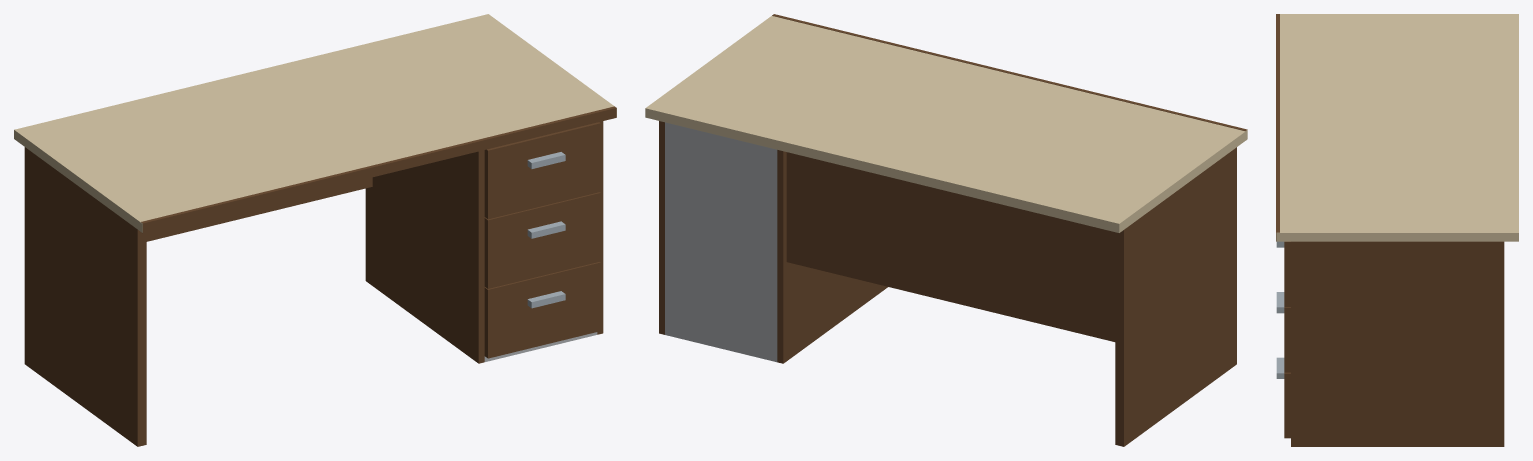
File: GO_Desk_Wood_01.glb
3 views of the same model, side by side, from view 1: azimuth 30°, elevation 25°; view 2: azimuth 150°, elevation 25°; view 3: azimuth 270°, elevation 25° (orthographic). The views are drawn at different scales.
Visible parts, largest first — view 1: GO_Desk_Wood_01, Drawer3, Drawer1, Drawer2; view 2: GO_Desk_Wood_01; view 3: GO_Desk_Wood_01, Drawer1, Drawer2, Drawer3.
Part boxes in pixels (box(x1,y1,x2,y2)): GO_Desk_Wood_01: box(14, 14, 616, 446); Drawer3: box(484, 122, 600, 219); Drawer1: box(484, 262, 600, 358); Drawer2: box(484, 192, 600, 288); GO_Desk_Wood_01: box(645, 14, 1247, 446); GO_Desk_Wood_01: box(1276, 14, 1518, 446); Drawer1: box(1276, 357, 1290, 438); Drawer2: box(1276, 292, 1290, 372); Drawer3: box(1276, 241, 1290, 306).
Bounding box in the file's own units: 1.6 × 0.741 × 0.751.
1 material, 1 textured.
